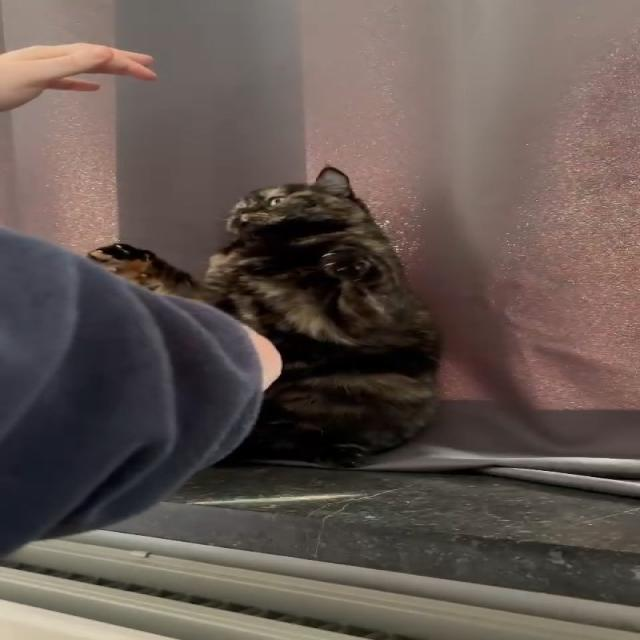authorized: (85, 164, 444, 468)
